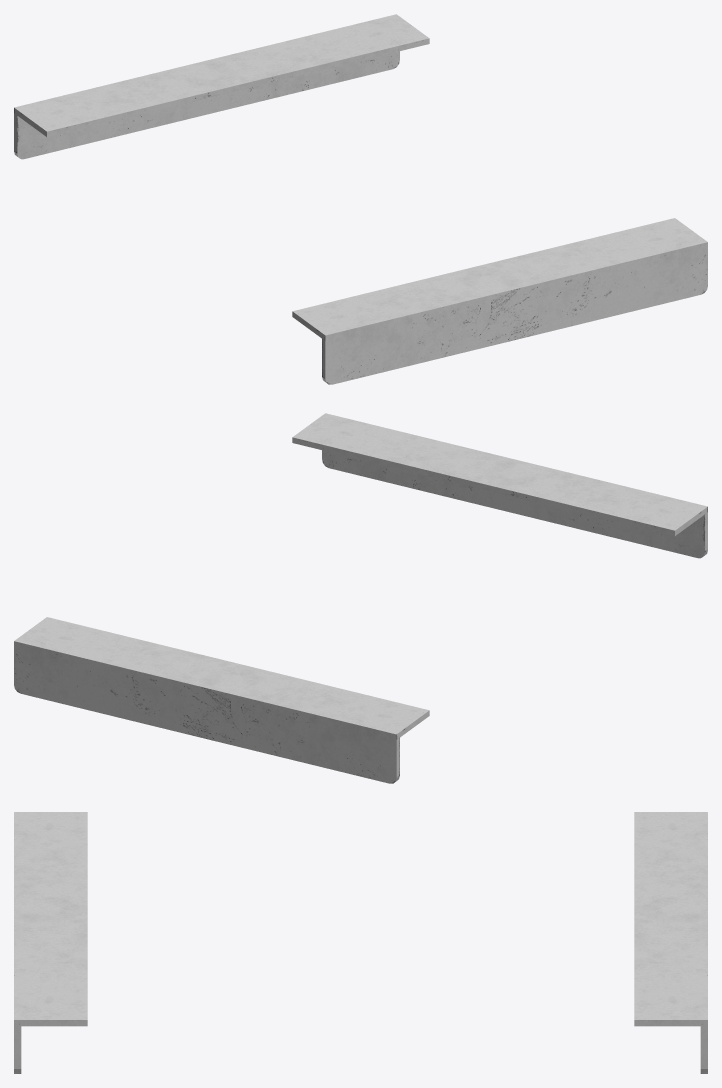
File: Rigid Pencapit .fbx
The picture shows the model from 3 angles, top to bottom: view 1: azimuth 30°, elevation 25°; view 2: azimuth 150°, elevation 25°; view 3: azimuth 270°, elevation 25°; orthographic projection. The views are drawn at different scales.
Visible parts, largest first — view 1: Cube.003; view 2: Cube.003; view 3: Cube.003.
Boxes of the visible parts, x1,y1,x2,y2 form: Cube.003: (14, 14, 707, 384); Cube.003: (14, 413, 707, 783); Cube.003: (14, 812, 707, 1073).
Bounding box in the file's own units: 41.58 × 5.29 × 58.63.
1 material, 1 textured.
